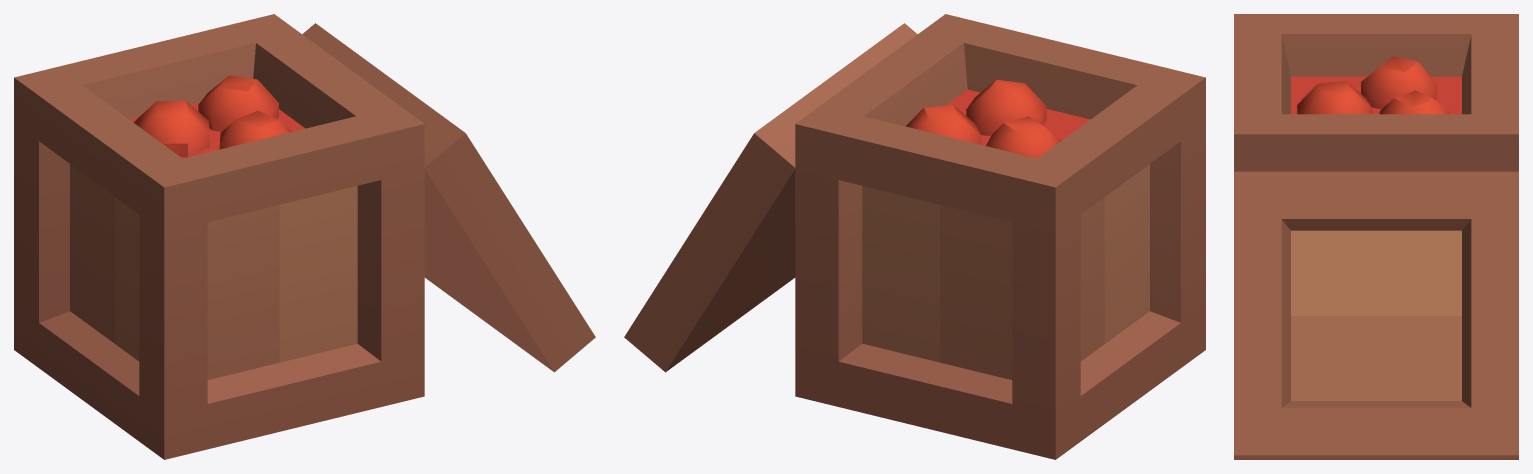
Rendered from crate_open.gltf.
3 views of the same model, side by side, from view 1: azimuth 30°, elevation 25°; view 2: azimuth 150°, elevation 25°; view 3: azimuth 270°, elevation 25° (orthographic). The views are drawn at different scales.
Parts seen in each view (by area): view 1: crate_open; view 2: crate_open; view 3: crate_open.
Boxes of the visible parts, bbox=[...] form: crate_open: bbox=[14, 14, 595, 459]; crate_open: bbox=[624, 14, 1205, 459]; crate_open: bbox=[1234, 14, 1518, 459].
Size of the model in its own units: 0.3316 by 0.2056 by 0.2.
Materials: 1 (1 with a texture image).
